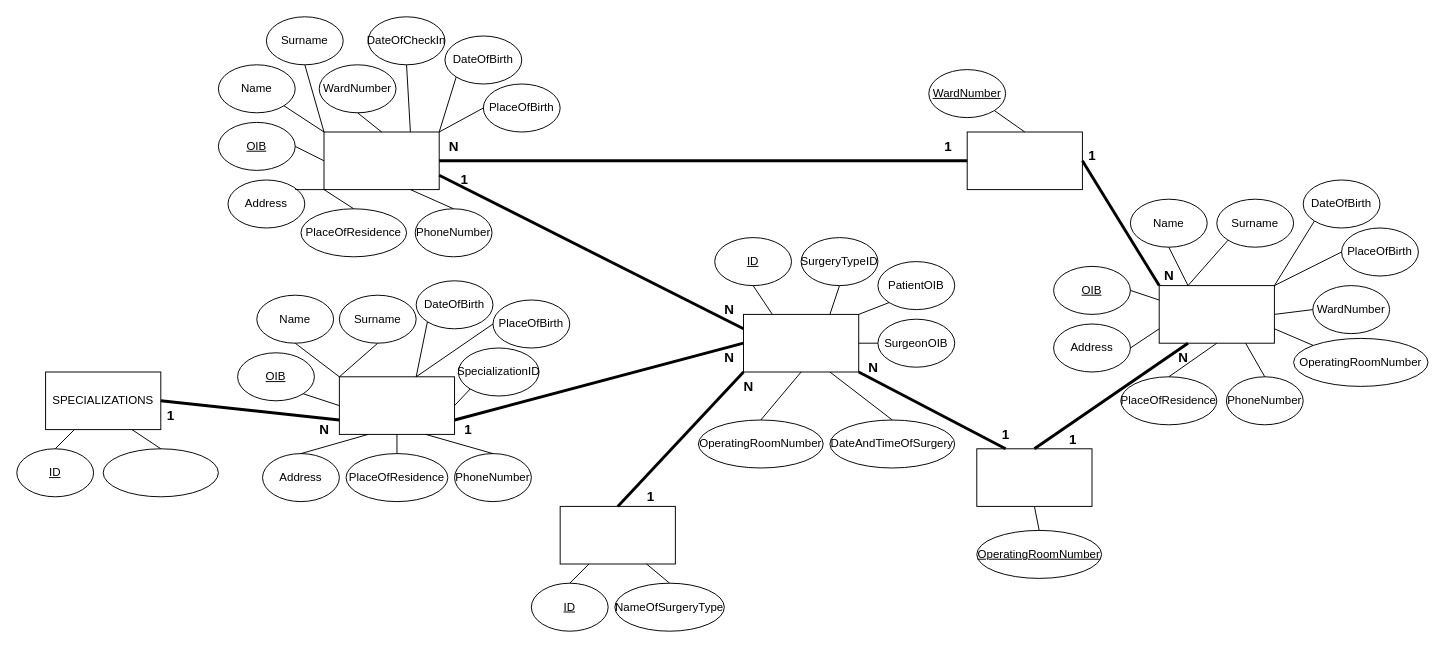
Some shapes in this 1445 by 648 pixel diagram are drawn without their labels. The shapes that lost their labels are listed below. From the top down, each one's centre as x and y in pixels, then its label:
At (381,160): "PATIENTS".
At (1024,160): "PATIENT WARDS".
At (1216,314): "NURSES".
At (801,342): "SURGERIES".
At (396,405): "SURGEONS".
At (160,472): "NameOfSpecialization".
At (1034,477): "OPERATING ROOMS".
At (617,534): "SURGERY TYPES".
